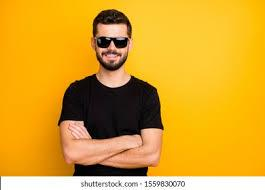sunglasses: (94, 33, 132, 52)
